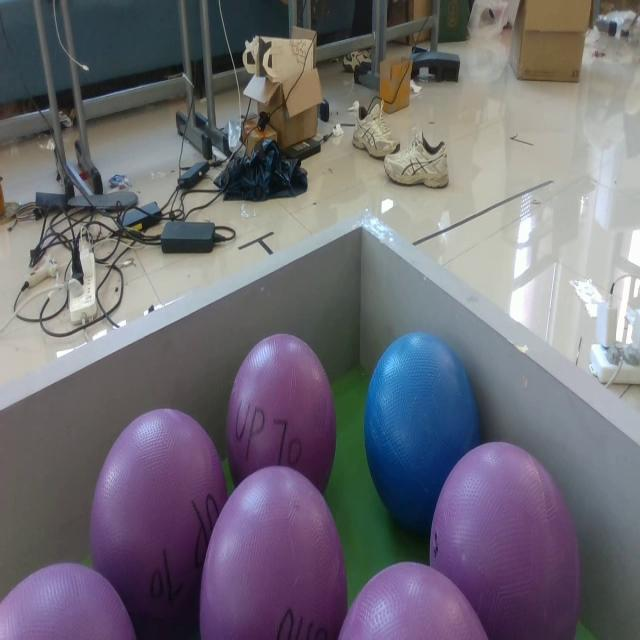blue: (366, 333, 479, 530)
invalid: (431, 439, 583, 640), (89, 409, 229, 616), (203, 468, 348, 640), (228, 332, 339, 500), (338, 556, 490, 640), (0, 559, 135, 640)
